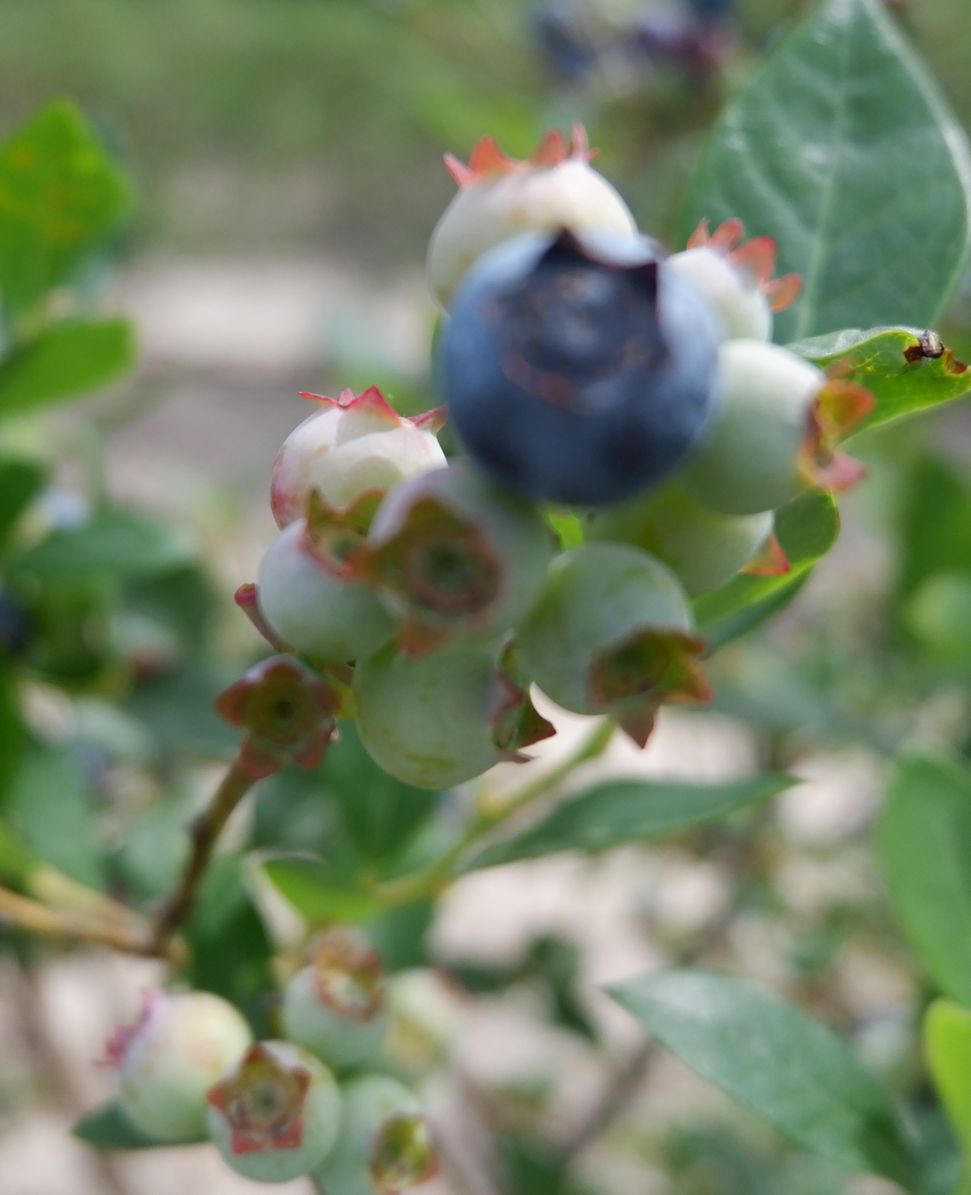Immature: (515, 542, 717, 749), (420, 122, 639, 311), (354, 638, 558, 786), (374, 474, 551, 637), (271, 386, 450, 531), (677, 343, 830, 511), (258, 490, 393, 661), (588, 486, 785, 591), (113, 996, 248, 1138), (207, 1044, 341, 1174), (659, 225, 782, 348), (221, 659, 336, 779), (283, 967, 386, 1069)
Mature: (433, 231, 711, 499)
